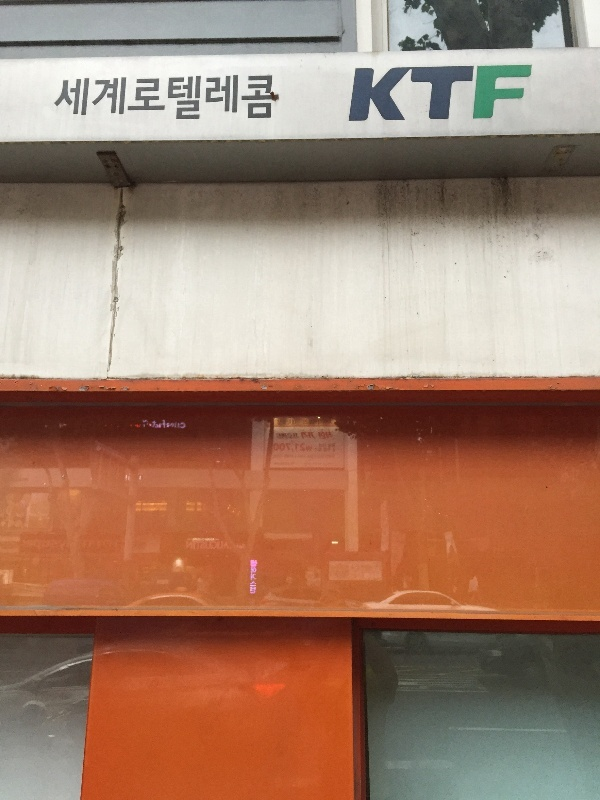text: (369, 66, 384, 121), (385, 66, 400, 121), (401, 66, 416, 121), (417, 66, 432, 121), (433, 66, 448, 121), (449, 66, 464, 121), (465, 66, 480, 121), (481, 66, 496, 121), (497, 66, 512, 121), (513, 66, 528, 121), (65, 75, 80, 120), (81, 75, 96, 120), (97, 75, 112, 120), (113, 75, 128, 120), (129, 75, 144, 120), (145, 75, 160, 120), (161, 75, 176, 120), (177, 75, 192, 120), (193, 75, 208, 120), (209, 75, 224, 120), (225, 75, 240, 120), (241, 75, 256, 120), (257, 75, 272, 120), (356, 66, 368, 121), (273, 75, 280, 120), (529, 66, 534, 121), (145, 418, 160, 430), (161, 418, 176, 430), (251, 560, 256, 596), (193, 540, 208, 552), (209, 540, 224, 552), (274, 444, 288, 452), (321, 445, 335, 453), (177, 418, 186, 430), (321, 432, 332, 440), (305, 443, 312, 454), (276, 433, 288, 439), (296, 444, 304, 453), (305, 432, 315, 439), (187, 540, 192, 552), (289, 433, 298, 439), (225, 540, 229, 552), (301, 443, 304, 454), (301, 432, 304, 439), (318, 432, 320, 440), (318, 445, 320, 453), (143, 418, 144, 430), (289, 444, 290, 452)
